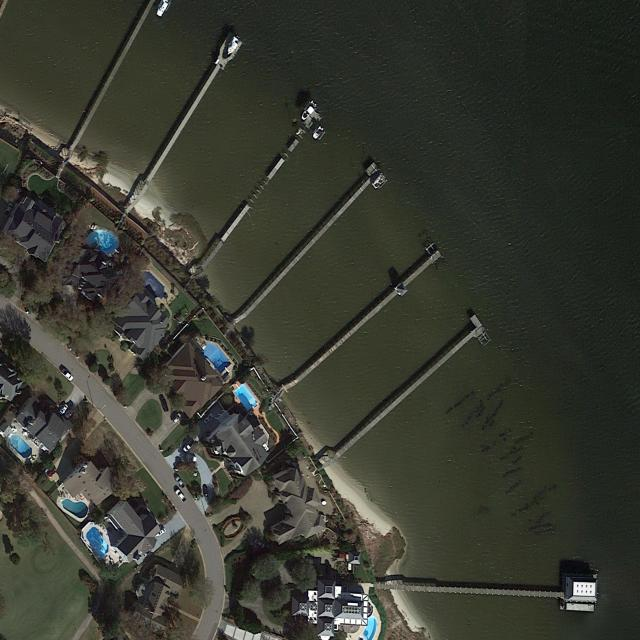ship: (225, 34, 240, 57), (300, 104, 316, 122), (371, 173, 386, 191), (311, 124, 326, 141), (294, 127, 303, 136)
small-vehicle: (174, 487, 187, 504), (64, 404, 76, 420), (61, 368, 74, 382), (174, 475, 185, 489), (171, 412, 182, 425), (58, 403, 69, 416), (183, 440, 194, 453), (46, 467, 57, 480), (253, 538, 265, 549), (203, 412, 214, 424), (155, 527, 167, 537), (160, 397, 168, 412), (331, 552, 345, 559), (185, 454, 196, 462), (142, 549, 150, 558), (203, 485, 208, 498)
